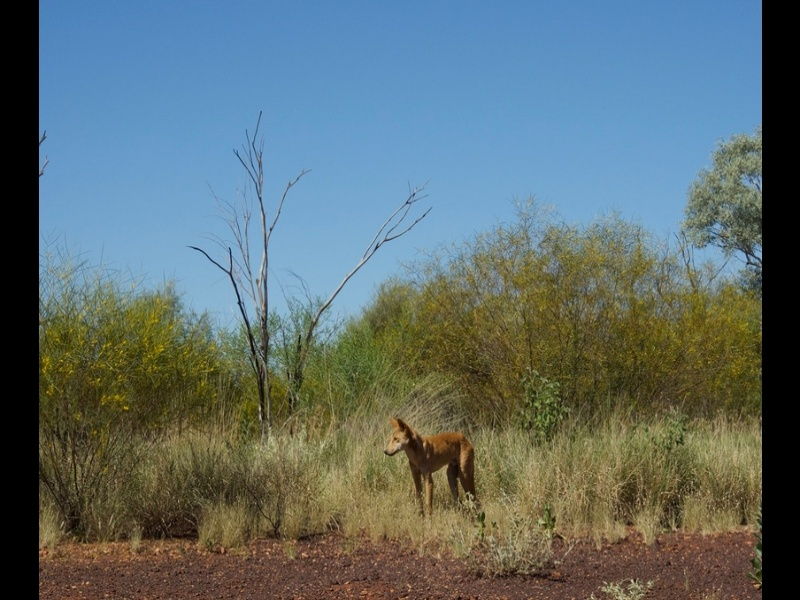dog: (384, 414, 485, 526)
